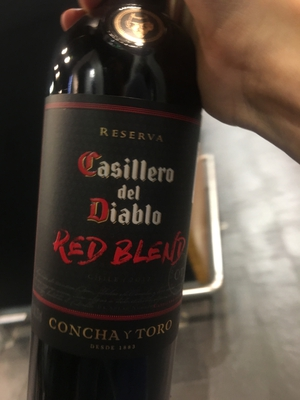casillero del diablo red blend: (31, 22, 204, 398)
